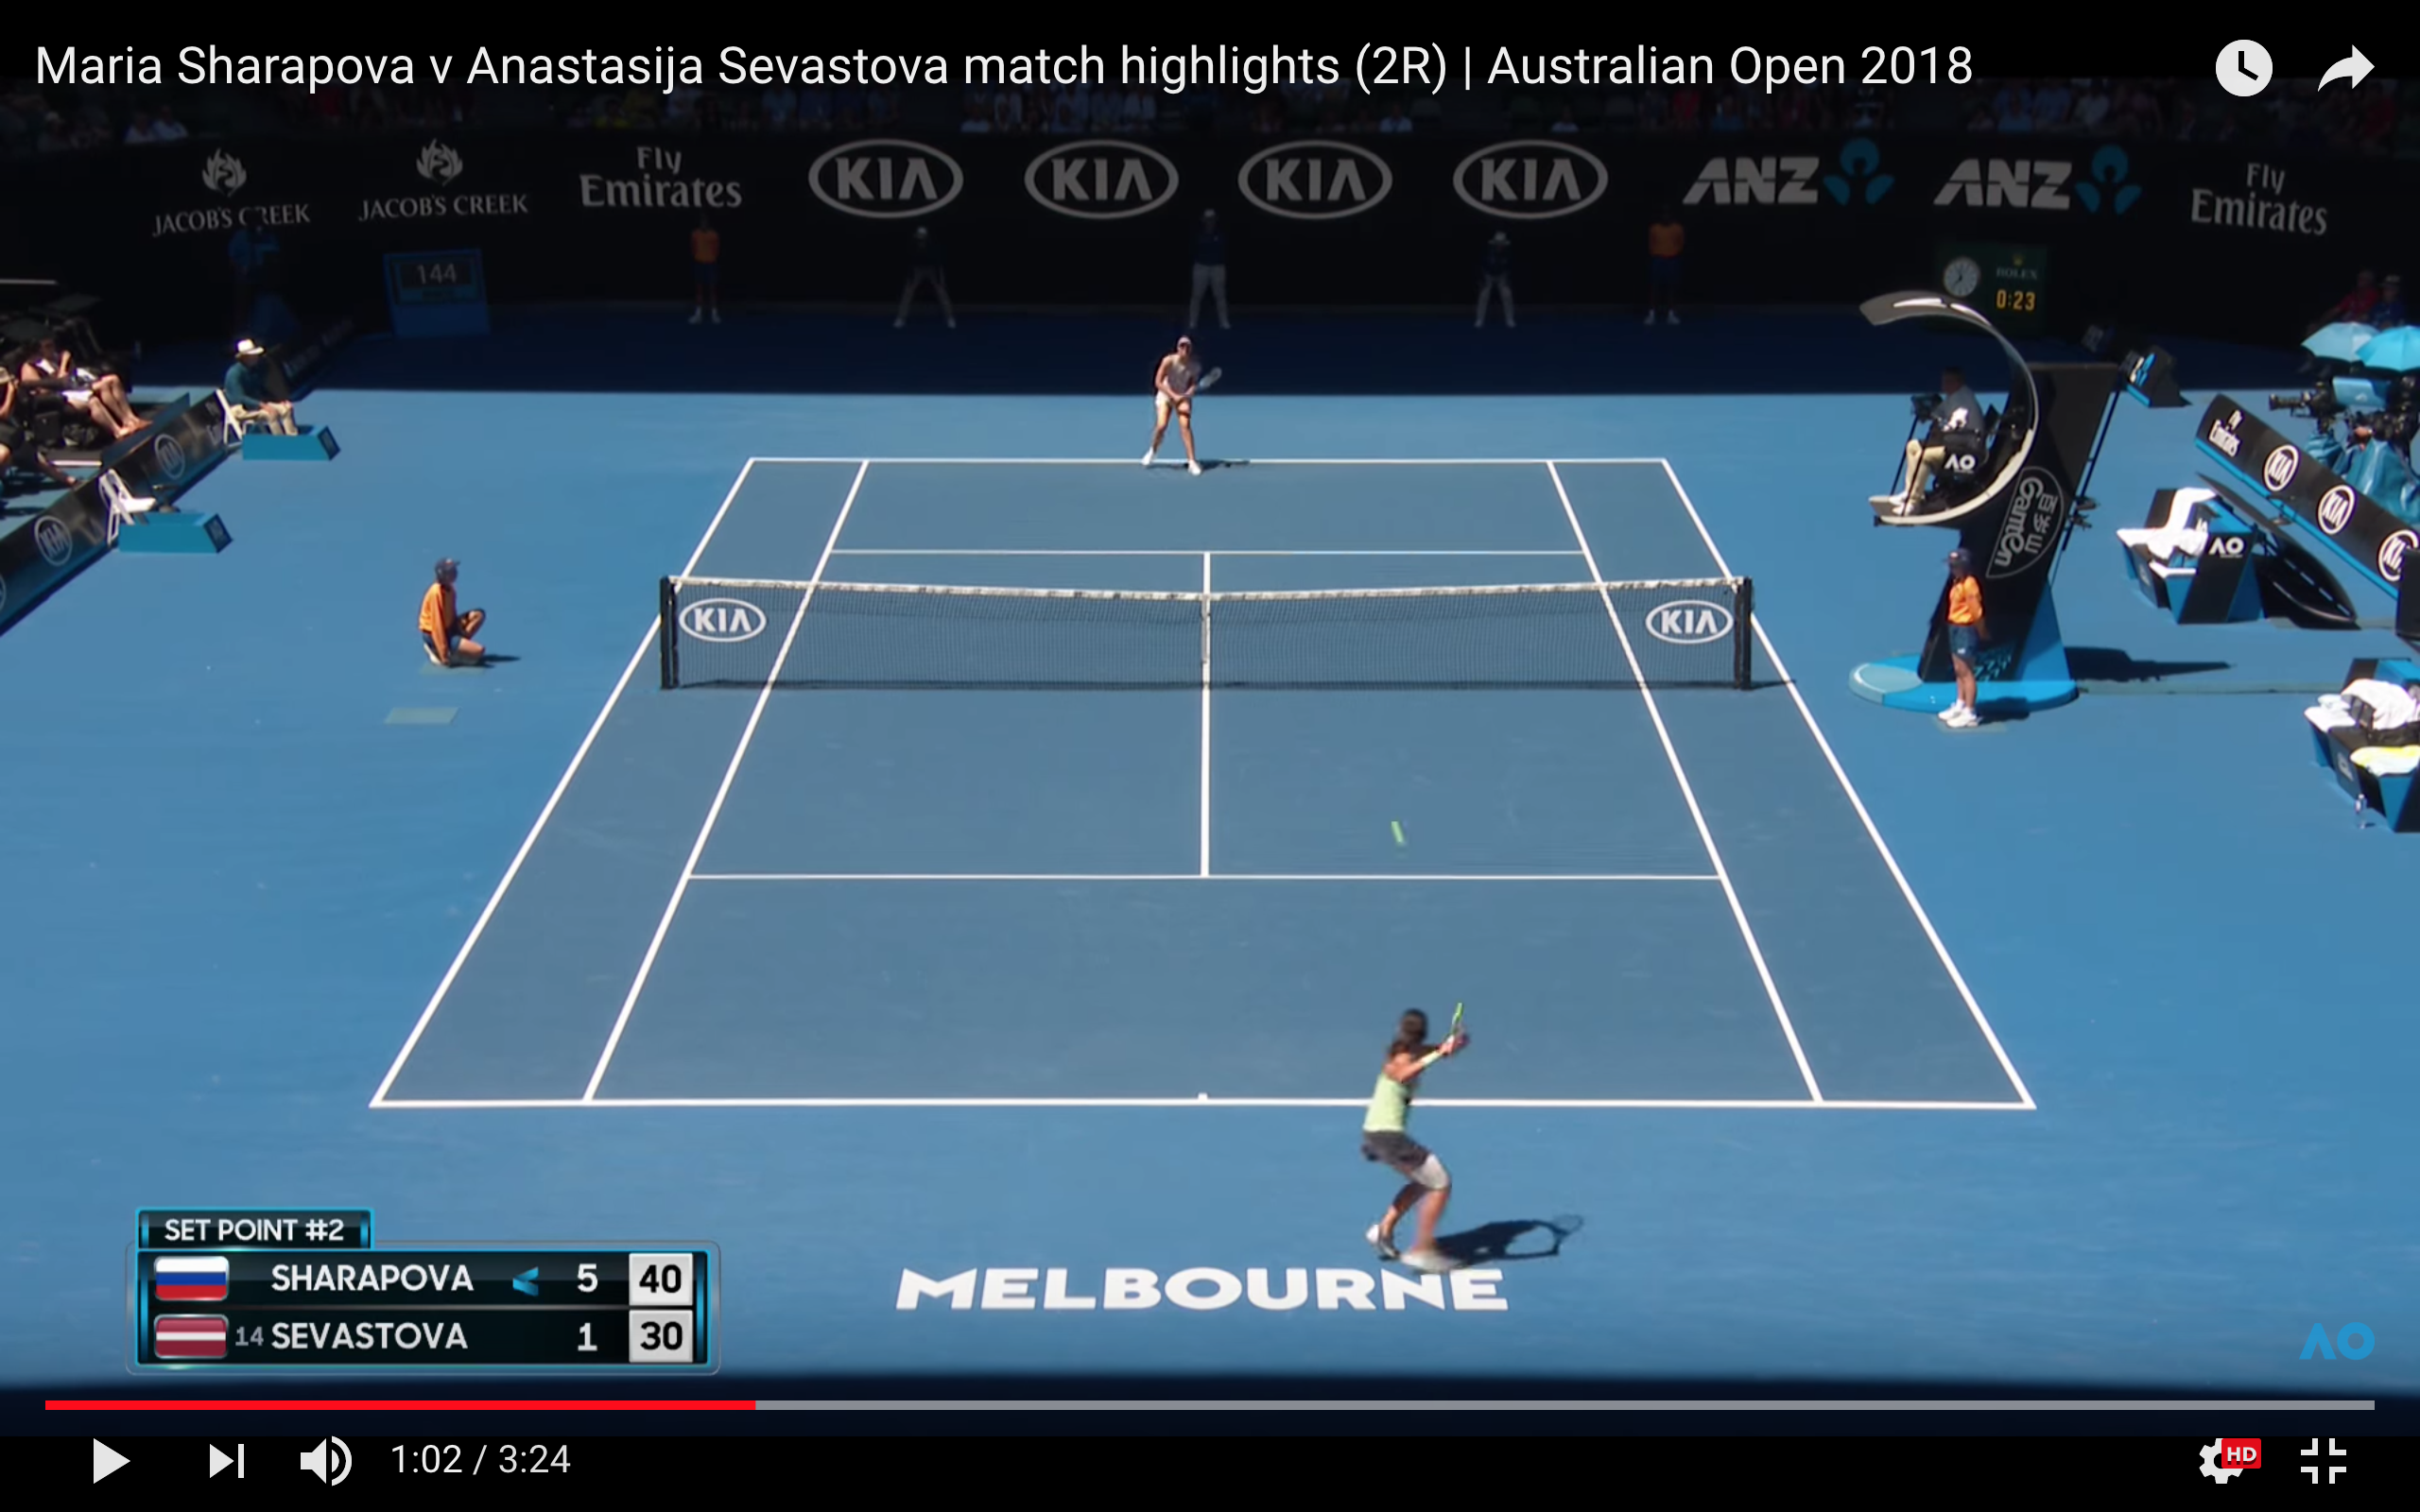tennis ball: (1376, 817, 1418, 850)
tennis player: (1360, 992, 1477, 1272), (1134, 338, 1230, 481)
